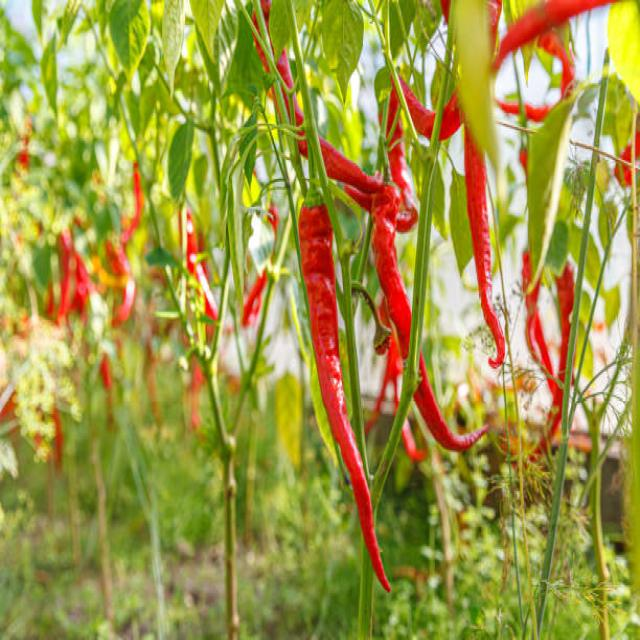Ripe: (301, 202, 389, 588), (373, 187, 493, 455), (465, 127, 504, 367), (321, 138, 382, 196), (389, 140, 417, 231)
